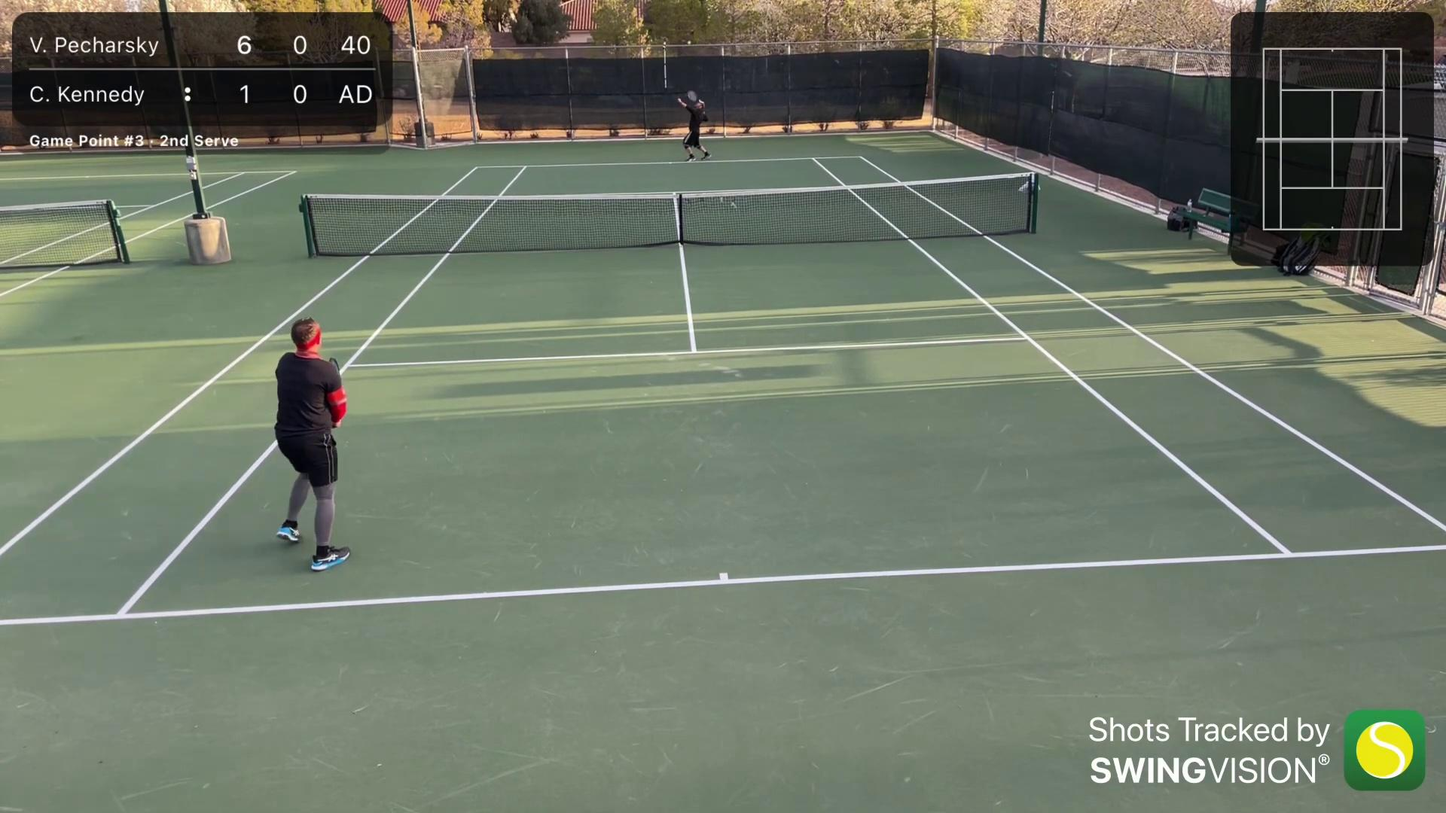ball: (686, 40, 692, 45)
